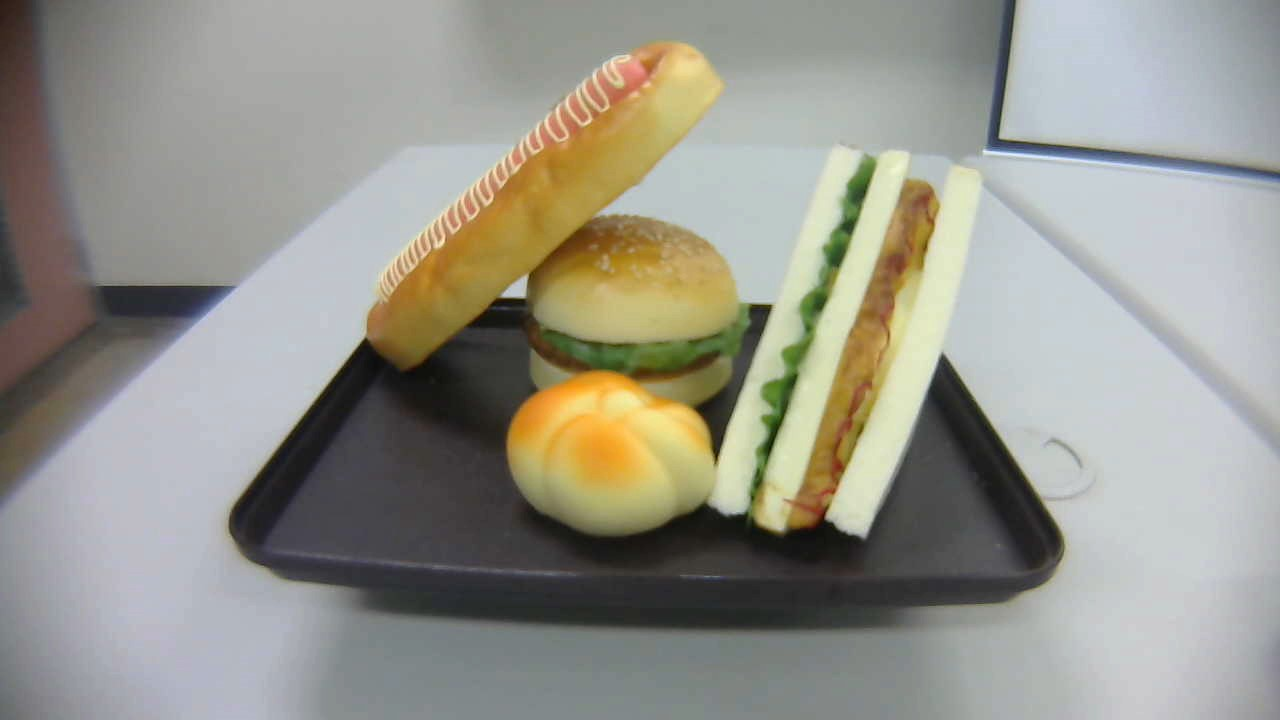hamburger: (524, 213, 754, 406)
hot dog: (366, 41, 725, 375)
sandwich: (704, 142, 983, 549)
twist bread: (504, 368, 715, 536)
